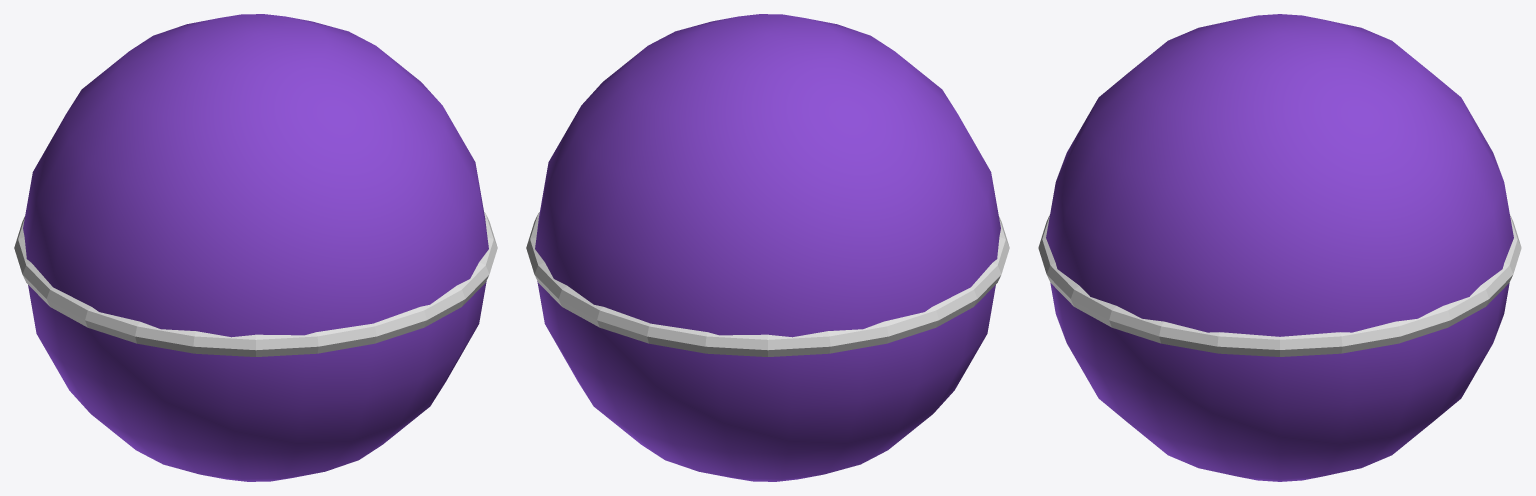
File: enemy-ball.glb
3 renders of one model, left to right at view 1: azimuth 30°, elevation 25°; view 2: azimuth 150°, elevation 25°; view 3: azimuth 270°, elevation 25°, orthographic.
Visible parts, largest first — view 1: enemy-ball; view 2: enemy-ball; view 3: enemy-ball.
Boxes of the visible parts, bbox=[...] form: enemy-ball: bbox=[14, 14, 497, 481]; enemy-ball: bbox=[526, 14, 1009, 481]; enemy-ball: bbox=[1038, 14, 1521, 481].
Bounding box in the file's own units: 0.574 × 0.56 × 0.574.
